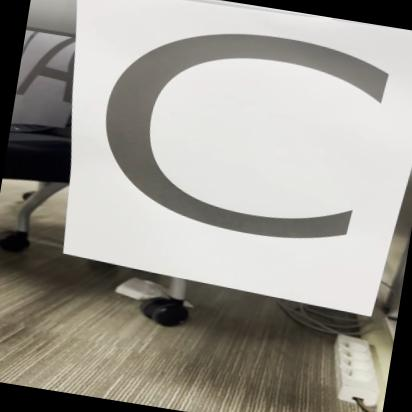seat: (33, 0, 412, 312)
